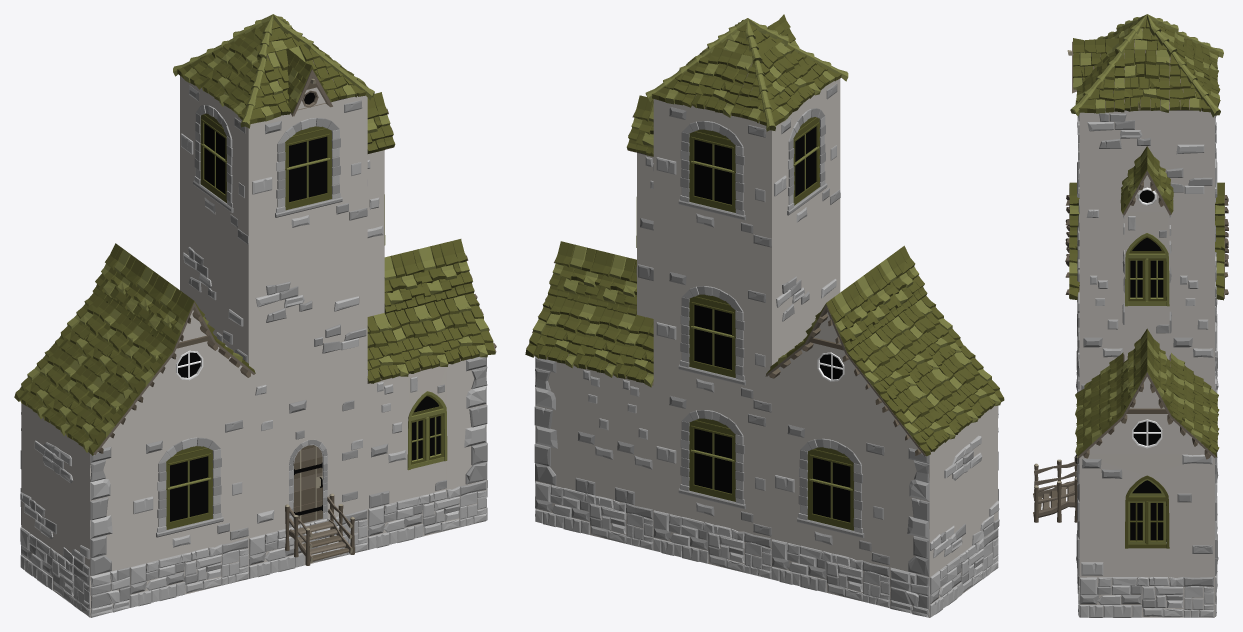
The model's file is House_15.glb.
3 renders of one model, left to right at view 1: azimuth 30°, elevation 25°; view 2: azimuth 150°, elevation 25°; view 3: azimuth 270°, elevation 25°, orthographic.
Visible parts, largest first — view 1: WINDOW_05_19, WALL_01_2, DOOR_03_3, WINDOW_05_18, WINDOW_05_20, WALL_03_2, WALL_06_3, FOUNDATION_03_4, WALL_07_8, FOUNDATION_03_2, WINDOW_01_03, WALL_05_9 (+41 smaller); view 2: WINDOW_05_23, WINDOW_05_24, WINDOW_05_21, WINDOW_05_22, WALL_03_2, WINDOW_05_20, FOUNDATION_03_8, FOUNDATION_03_7, WALL_05_10, FOUNDATION_03_6, WALL_06_11, WALL_06_10 (+40 smaller); view 3: WINDOW_02_2, WALL_01_3, FOUNDATION_03_5, WINDOW_01_04, WALL_06_8, WALL_06_9, ROOF_BASE_16, ROOF_CORNER_OUT_4, ROOF_CORNER_OUT_5, STAIRS_02_2, ROOF_UP_2, ROOF_TRIAGLE_QUAD_7 (+40 smaller).
Part boxes in pixels (bbox=[...]): WINDOW_05_19: bbox=[129, 413, 248, 566]; WALL_01_2: bbox=[248, 259, 367, 412]; DOOR_03_3: bbox=[248, 384, 367, 537]; WINDOW_05_18: bbox=[248, 95, 367, 246]; WINDOW_05_20: bbox=[180, 76, 250, 246]; WALL_03_2: bbox=[20, 403, 90, 575]; WALL_06_3: bbox=[367, 376, 407, 508]; FOUNDATION_03_4: bbox=[367, 479, 486, 549]; WALL_07_8: bbox=[447, 356, 487, 488]; FOUNDATION_03_2: bbox=[129, 537, 248, 607]; WINDOW_01_03: bbox=[407, 366, 447, 498]; WALL_05_9: bbox=[90, 442, 129, 575]; WINDOW_05_23: bbox=[772, 414, 890, 566]; WINDOW_05_24: bbox=[653, 385, 771, 537]; WINDOW_05_21: bbox=[653, 262, 771, 414]; WINDOW_05_22: bbox=[653, 99, 771, 248]; WALL_03_2: bbox=[929, 405, 999, 575]; WINDOW_05_20: bbox=[772, 79, 840, 248]; FOUNDATION_03_8: bbox=[771, 538, 890, 608]; FOUNDATION_03_7: bbox=[653, 509, 771, 579]; WALL_05_10: bbox=[534, 356, 574, 489]; FOUNDATION_03_6: bbox=[535, 480, 653, 550]; WALL_06_11: bbox=[575, 366, 614, 499]; WALL_06_10: bbox=[614, 376, 653, 509]; WINDOW_02_2: bbox=[1081, 454, 1212, 576]; WALL_01_3: bbox=[1079, 110, 1214, 233]; FOUNDATION_03_5: bbox=[1079, 576, 1214, 617]; WINDOW_01_04: bbox=[1125, 211, 1169, 333]; WALL_06_8: bbox=[1079, 274, 1124, 389]; WALL_06_9: bbox=[1169, 274, 1214, 388]; ROOF_BASE_16: bbox=[1124, 49, 1169, 112]; ROOF_CORNER_OUT_4: bbox=[1169, 51, 1220, 117]; ROOF_CORNER_OUT_5: bbox=[1070, 50, 1124, 116]; STAIRS_02_2: bbox=[1033, 456, 1077, 522]; ROOF_UP_2: bbox=[1115, 14, 1178, 56]; ROOF_TRIAGLE_QUAD_7: bbox=[1169, 233, 1214, 274].
Bounding box in the file's own units: 10.41 × 12.66 × 4.34.
1 material, 1 textured.
